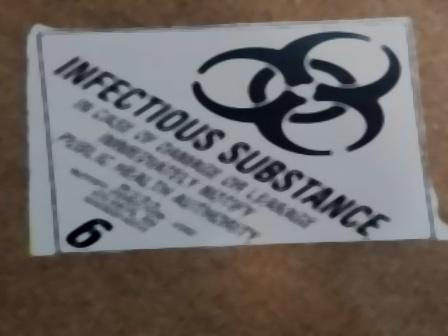infectious-substance: (34, 28, 448, 257)
